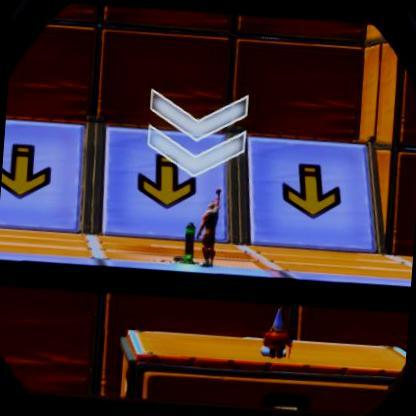person: (200, 204, 225, 266)
